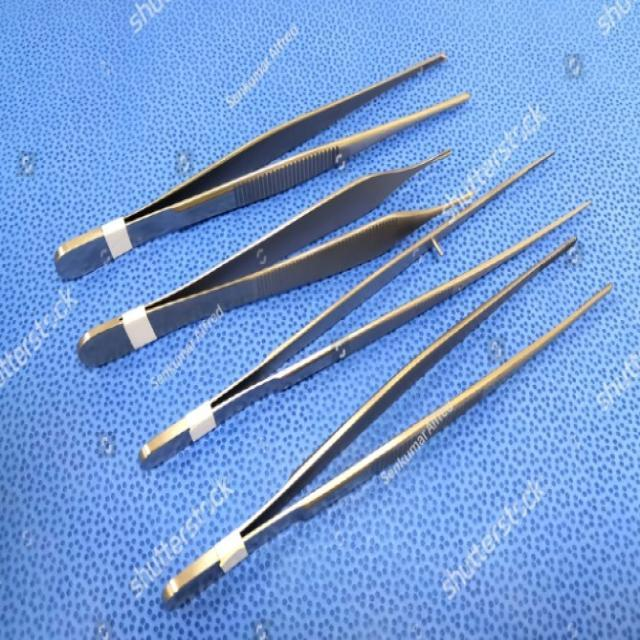Disscting Forceps -Plain-: (164, 223, 616, 614), (144, 143, 599, 473), (75, 131, 486, 380), (36, 35, 38, 38)
Disscting Forceps -tooth-: (56, 26, 488, 282)
